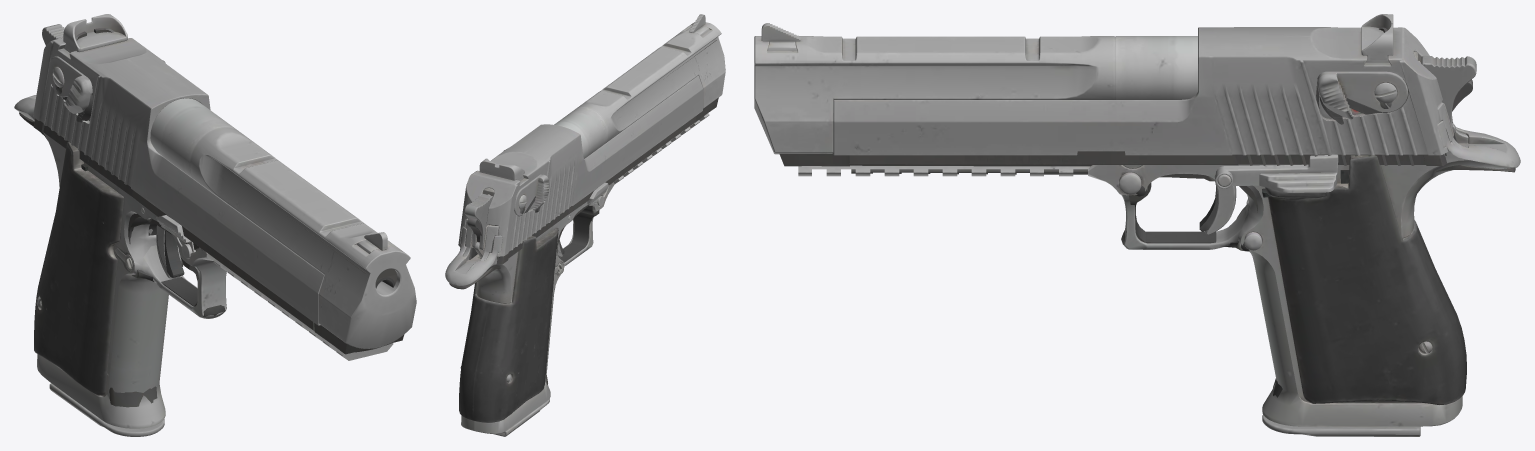
3 views of the same model, side by side, from view 1: azimuth 30°, elevation 25°; view 2: azimuth 150°, elevation 25°; view 3: azimuth 270°, elevation 25° (orthographic). The views are drawn at different scales.
Parts seen in each view (by area): view 1: weapons\models\deagle\weapon_pist_deagle.vmdl_c.body_hd, weapons\models\deagle\weapon_pist_deagle.vmdl_c.body_legacy; view 2: weapons\models\deagle\weapon_pist_deagle.vmdl_c.body_hd, weapons\models\deagle\weapon_pist_deagle.vmdl_c.body_legacy; view 3: weapons\models\deagle\weapon_pist_deagle.vmdl_c.body_hd, weapons\models\deagle\weapon_pist_deagle.vmdl_c.body_legacy.
Part boxes in pixels (left/top/right/bottom): weapons\models\deagle\weapon_pist_deagle.vmdl_c.body_hd: left=14, top=14, right=416, bottom=436; weapons\models\deagle\weapon_pist_deagle.vmdl_c.body_legacy: left=19, top=28, right=404, bottom=407; weapons\models\deagle\weapon_pist_deagle.vmdl_c.body_hd: left=445, top=14, right=725, bottom=436; weapons\models\deagle\weapon_pist_deagle.vmdl_c.body_legacy: left=449, top=40, right=718, bottom=384; weapons\models\deagle\weapon_pist_deagle.vmdl_c.body_hd: left=754, top=14, right=1520, bottom=436; weapons\models\deagle\weapon_pist_deagle.vmdl_c.body_legacy: left=779, top=27, right=1515, bottom=397.
Size of the model in its own units: 0.0444 by 0.1692 by 0.2934.
2 materials, 2 textured.
